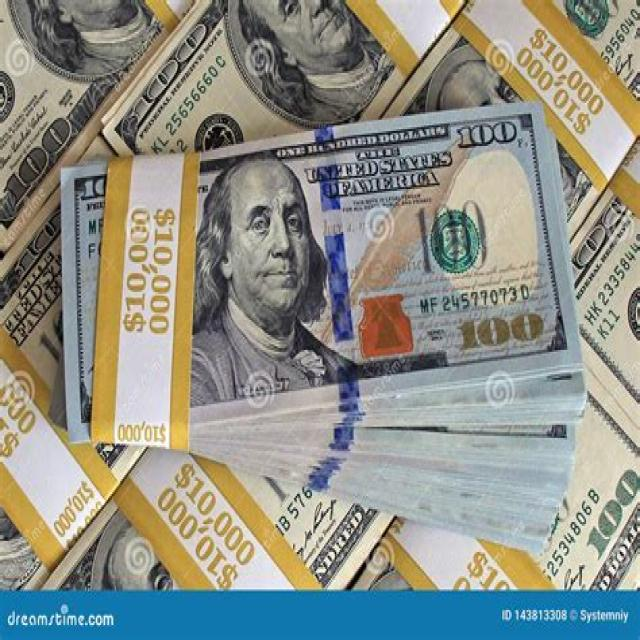Hundred: (60, 98, 584, 442), (105, 0, 402, 155)
